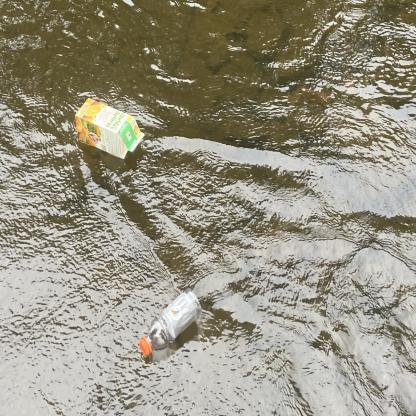trash: (133, 285, 207, 362), (71, 94, 147, 164)
